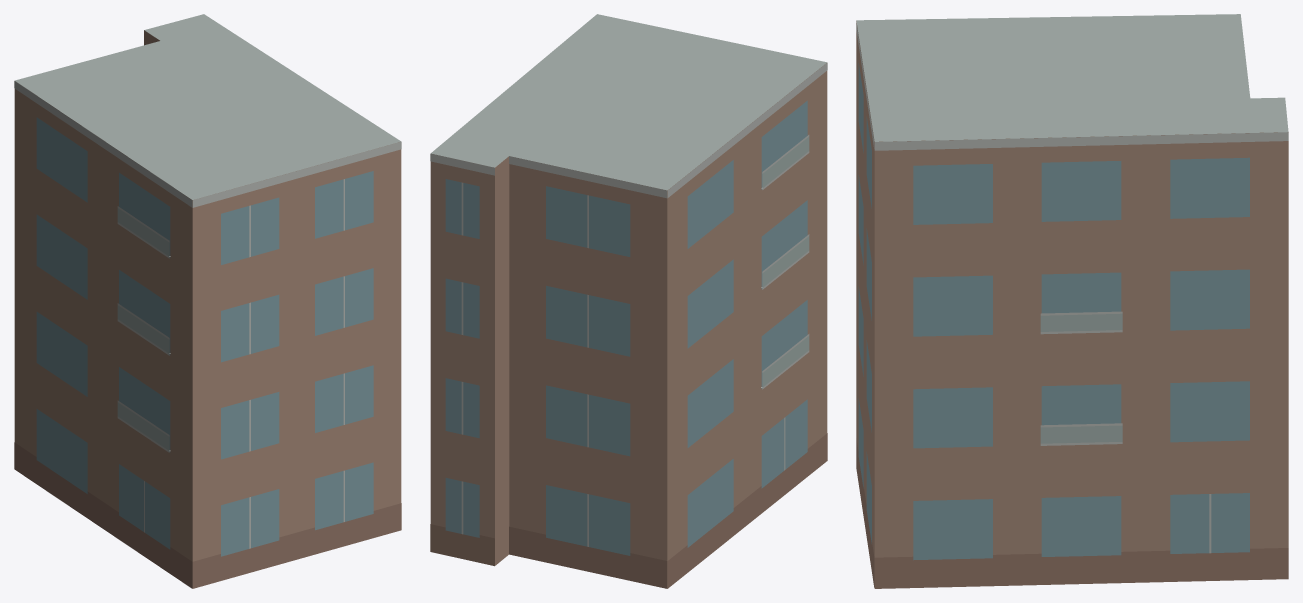
File: survey-upis-32709061.glb
3 views of the same model, side by side, from view 1: azimuth 30°, elevation 25°; view 2: azimuth 150°, elevation 25°; view 3: azimuth 270°, elevation 25° (orthographic). The views are drawn at different scales.
Visible parts, largest first — view 1: survey-upis-32709061.tmp; view 2: survey-upis-32709061.tmp; view 3: survey-upis-32709061.tmp.
Part boxes in pixels (x1,y1,x2,y2): survey-upis-32709061.tmp: (14, 14, 401, 588); survey-upis-32709061.tmp: (430, 14, 827, 588); survey-upis-32709061.tmp: (856, 14, 1288, 588).
Size of the model in its own units: 7.49 by 12.2 by 10.7.
